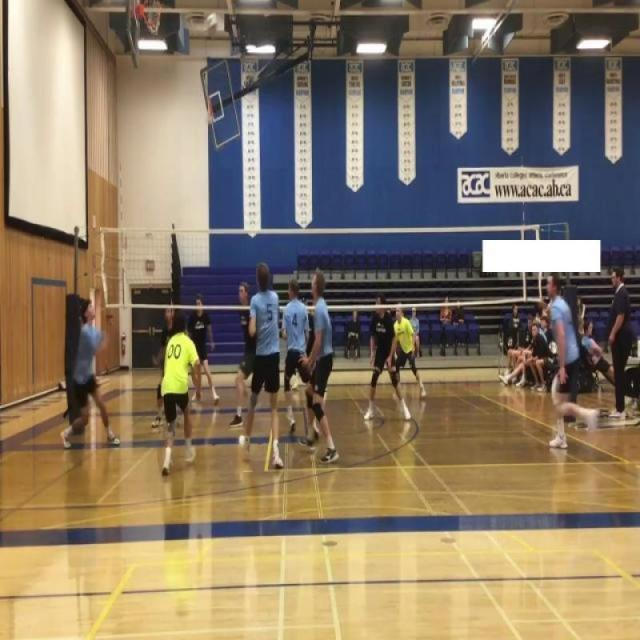volleyball: (206, 12, 218, 36)
